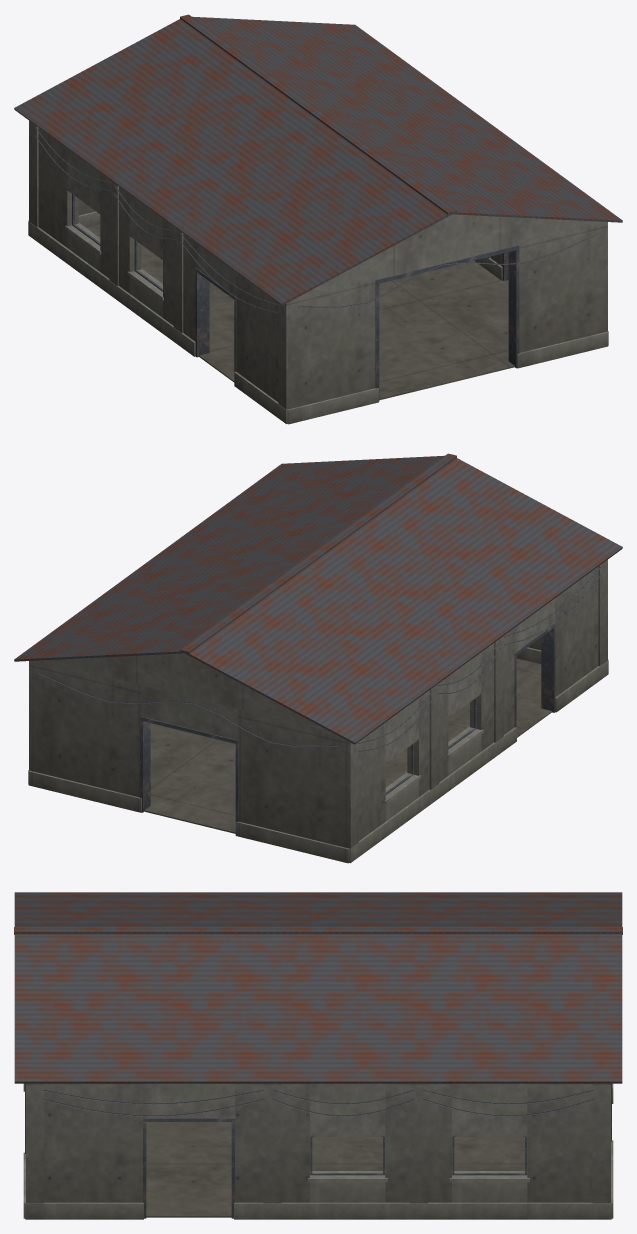
The model's file is map_warehouse.glb.
3 renders of one model, top to bottom at view 1: azimuth 30°, elevation 25°; view 2: azimuth 150°, elevation 25°; view 3: azimuth 270°, elevation 25°, orthographic. The views are drawn at different scales.
Parts seen in each view (by area): view 1: warehouse_roof, warehouse_concrete, warehouse_steel; view 2: warehouse_roof, warehouse_concrete, warehouse_steel; view 3: warehouse_roof, warehouse_concrete, warehouse_steel.
Boxes of the visible parts, bbox=[...] form: warehouse_roof: bbox=[14, 14, 622, 305]; warehouse_concrete: bbox=[28, 121, 608, 424]; warehouse_steel: bbox=[35, 127, 597, 401]; warehouse_roof: bbox=[14, 453, 622, 744]; warehouse_concrete: bbox=[28, 560, 608, 863]; warehouse_steel: bbox=[39, 566, 601, 821]; warehouse_roof: bbox=[14, 892, 622, 1083]; warehouse_concrete: bbox=[23, 1083, 613, 1219]; warehouse_steel: bbox=[25, 1083, 611, 1218].
Bounding box in the file's own units: 10.72 × 5.3 × 14.58.
Materials: 3 (3 with a texture image).
